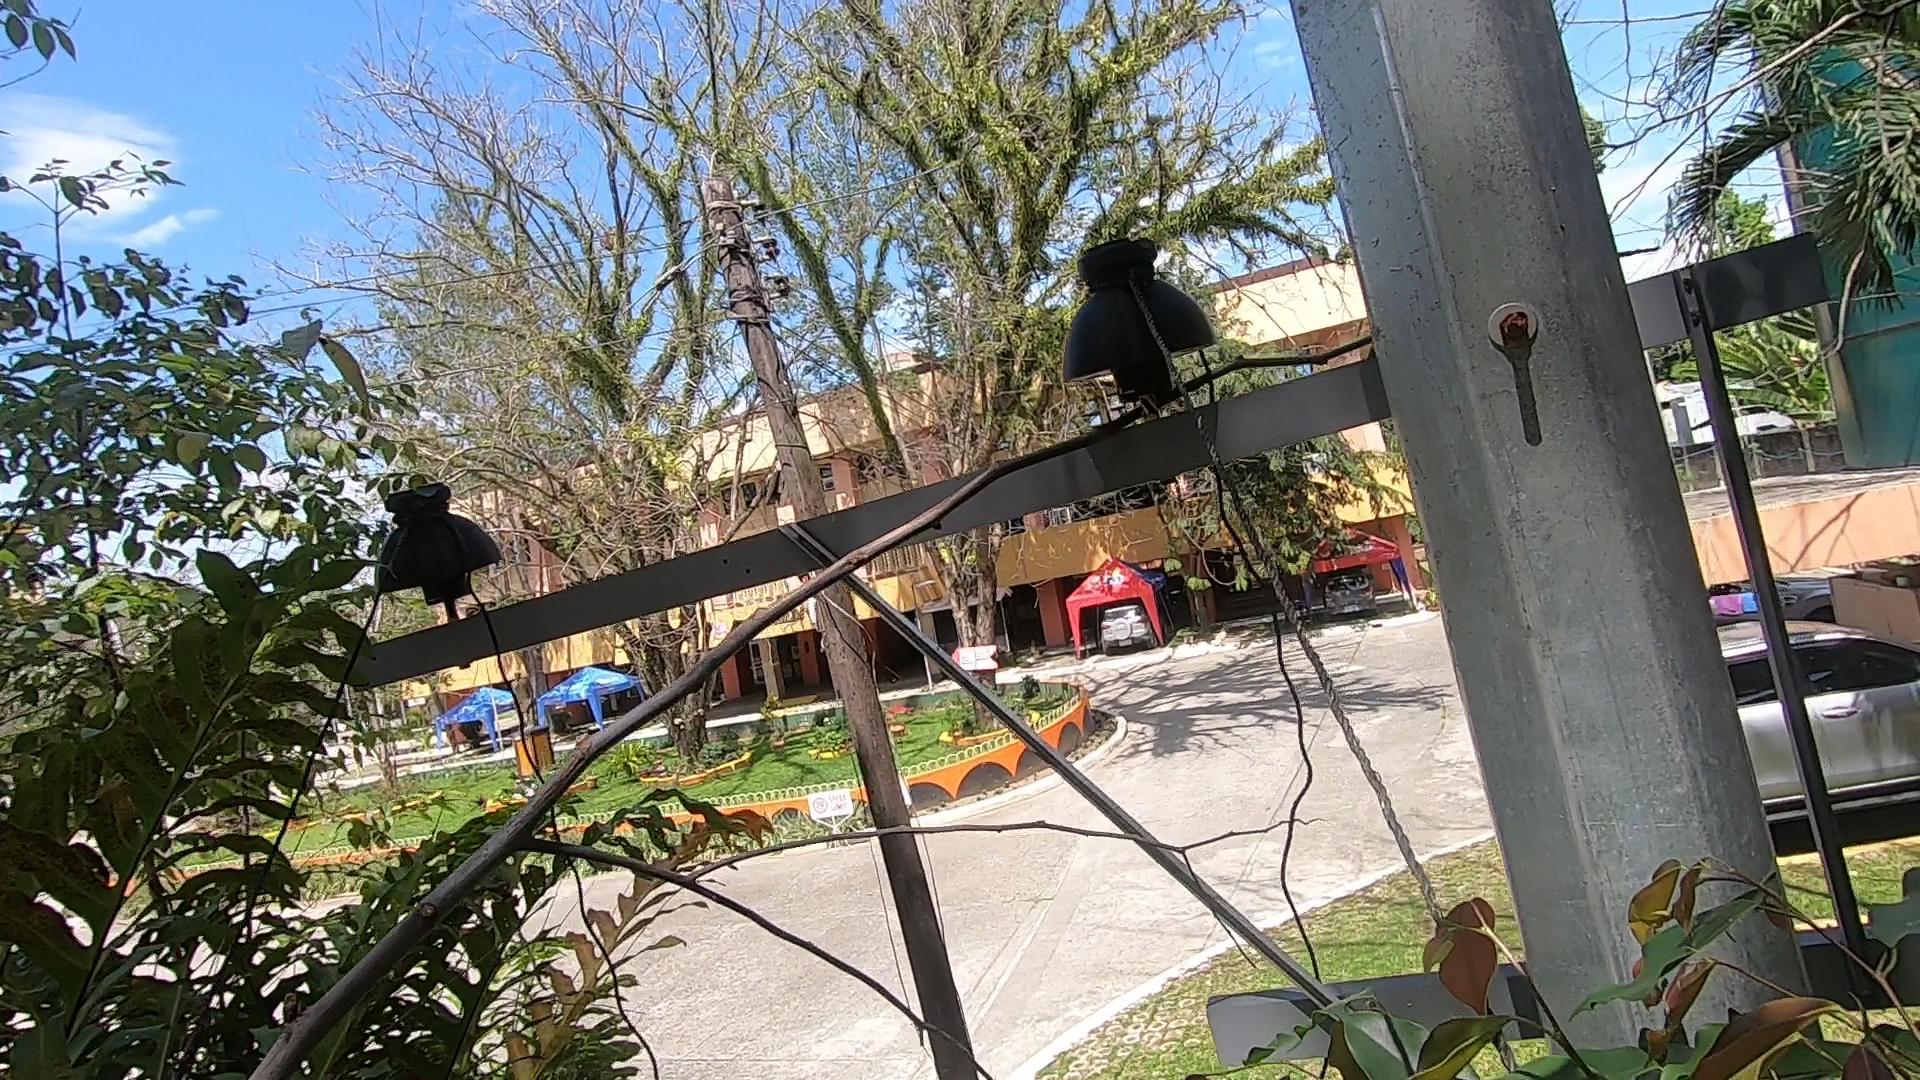branch with leaves: (1364, 862, 1920, 1076)
tree branch: (84, 301, 1371, 1062)
